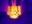Hotspot: (7, 6, 23, 18)
